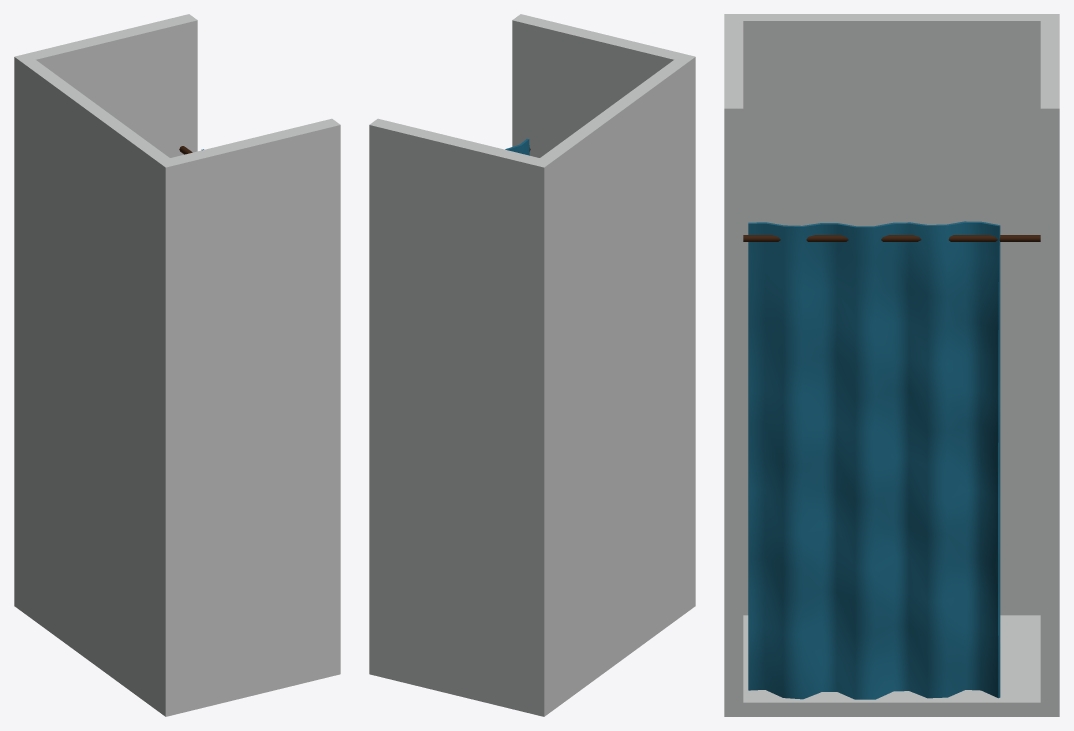
File: Douche.fbx
The picture shows the model from 3 angles, left to right: view 1: azimuth 30°, elevation 25°; view 2: azimuth 150°, elevation 25°; view 3: azimuth 270°, elevation 25°; orthographic projection. The views are drawn at different scales.
Visible parts, largest first — view 1: Douche; view 2: Douche; view 3: Douche.
Boxes of the visible parts, x1,y1,x2,y2 form: Douche: (14, 14, 340, 716); Douche: (369, 14, 695, 716); Douche: (724, 14, 1059, 716).
Size of the model in its own units: 100 by 300 by 150.
